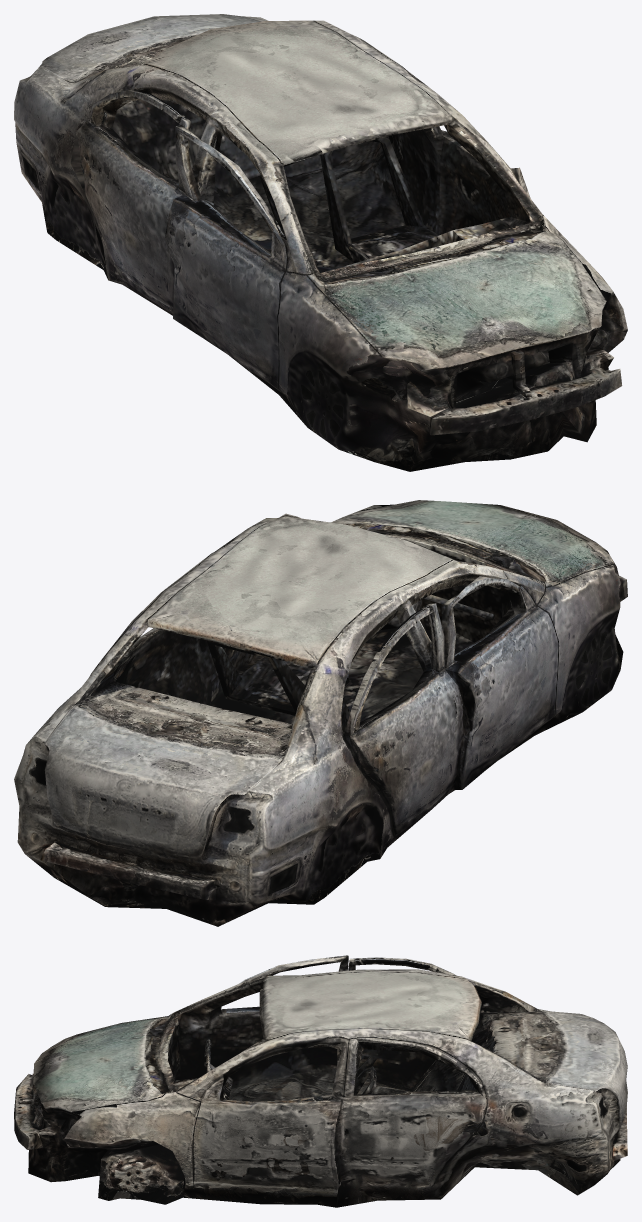
3 views of the same model, one above another, from view 1: azimuth 30°, elevation 25°; view 2: azimuth 150°, elevation 25°; view 3: azimuth 270°, elevation 25° (orthographic). The views are drawn at different scales.
Visible parts, largest first — view 1: default002_Material #26_0; view 2: default002_Material #26_0; view 3: default002_Material #26_0.
Part boxes in pixels (left/top/right/bottom): default002_Material #26_0: left=14, top=14, right=627, bottom=471; default002_Material #26_0: left=14, top=500, right=627, bottom=926; default002_Material #26_0: left=14, top=955, right=627, bottom=1207.
Size of the model in its own units: 1.84 by 1.21 by 4.34.
1 material, 1 textured.
